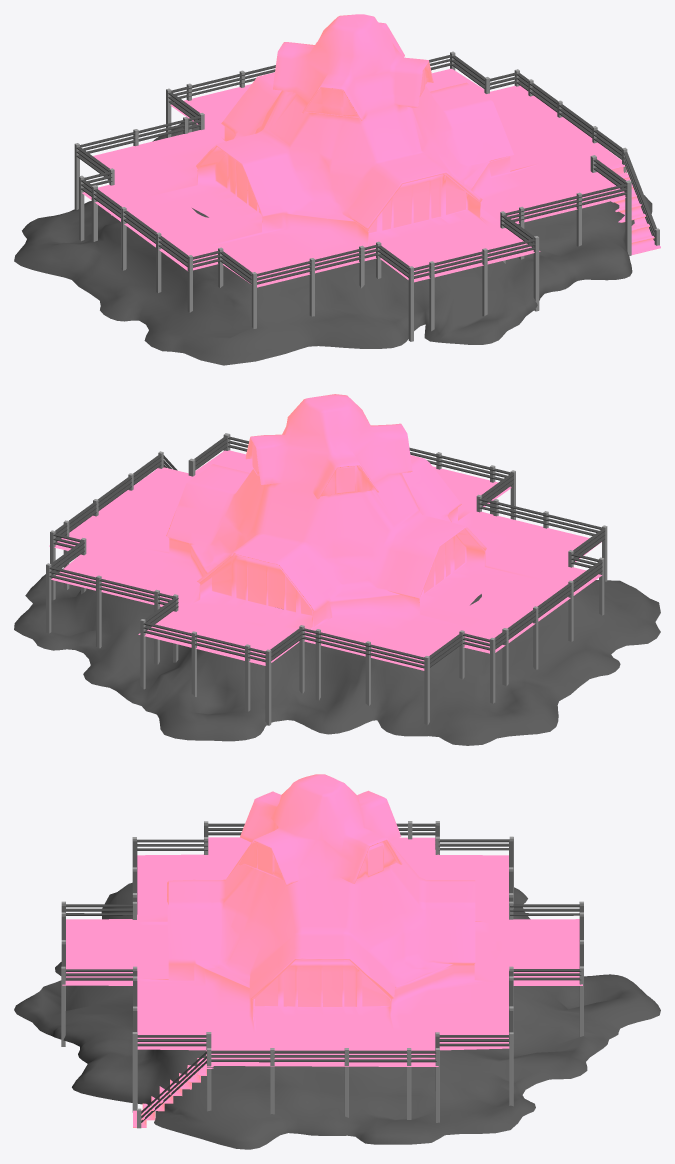
Rendered from SM_Igloo_4_LR.fbx.
The picture shows the model from 3 angles, top to bottom: view 1: azimuth 30°, elevation 25°; view 2: azimuth 150°, elevation 25°; view 3: azimuth 270°, elevation 25°; orthographic projection. The views are drawn at different scales.
Parts seen in each view (by area): view 1: polySurface1139; view 2: polySurface1139; view 3: polySurface1139.
Boxes of the visible parts, box(x1,y1,x2,y2) form: polySurface1139: box(14, 14, 660, 365); polySurface1139: box(14, 394, 660, 745); polySurface1139: box(14, 774, 660, 1149).
Bounding box in the file's own units: 3613 × 1382 × 3511.
